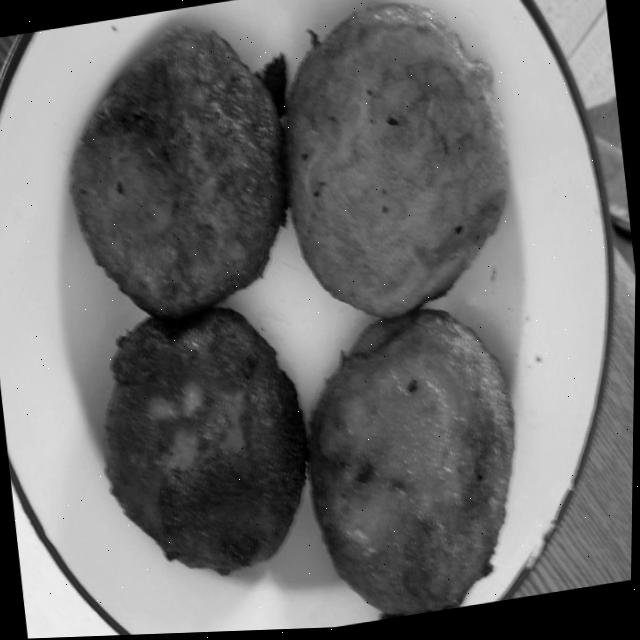炸货点心: (5, 0, 595, 640)
蛋糕甜品: (5, 0, 595, 640)
